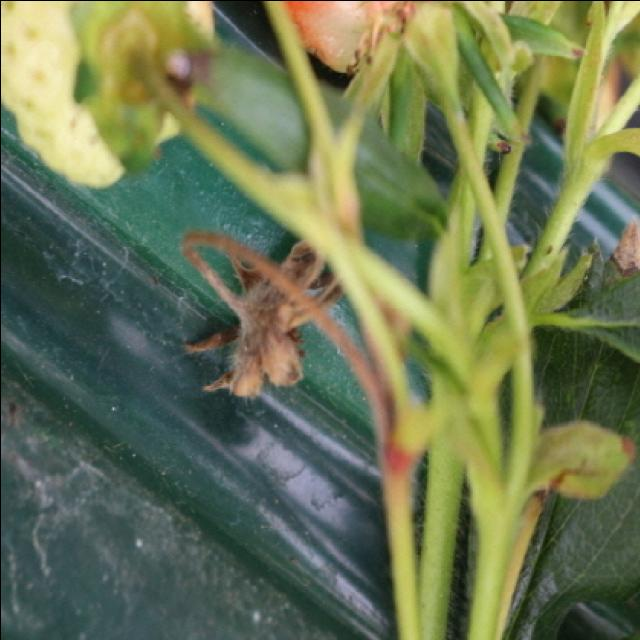Gray Mold: (176, 227, 345, 398)
